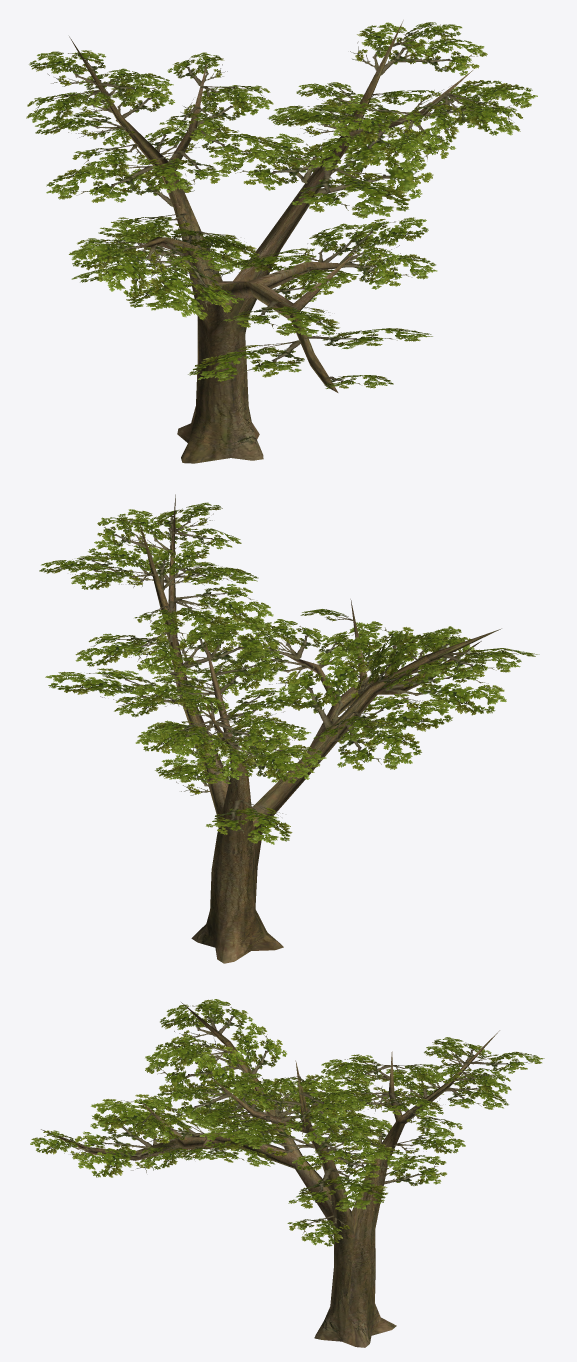
The model's file is jz_shu01_53_51_6585out.fbx.
3 renders of one model, top to bottom at view 1: azimuth 30°, elevation 25°; view 2: azimuth 150°, elevation 25°; view 3: azimuth 270°, elevation 25°, orthographic. The views are drawn at different scales.
Parts seen in each view (by area): view 1: jz_shu01; view 2: jz_shu01; view 3: jz_shu01.
Boxes of the visible parts, box(x1,y1,x2,y2) form: jz_shu01: box(26, 20, 537, 463); jz_shu01: box(39, 494, 539, 963); jz_shu01: box(30, 999, 544, 1347).
Bounding box in the file's own units: 7.62 × 5.85 × 8.86.
